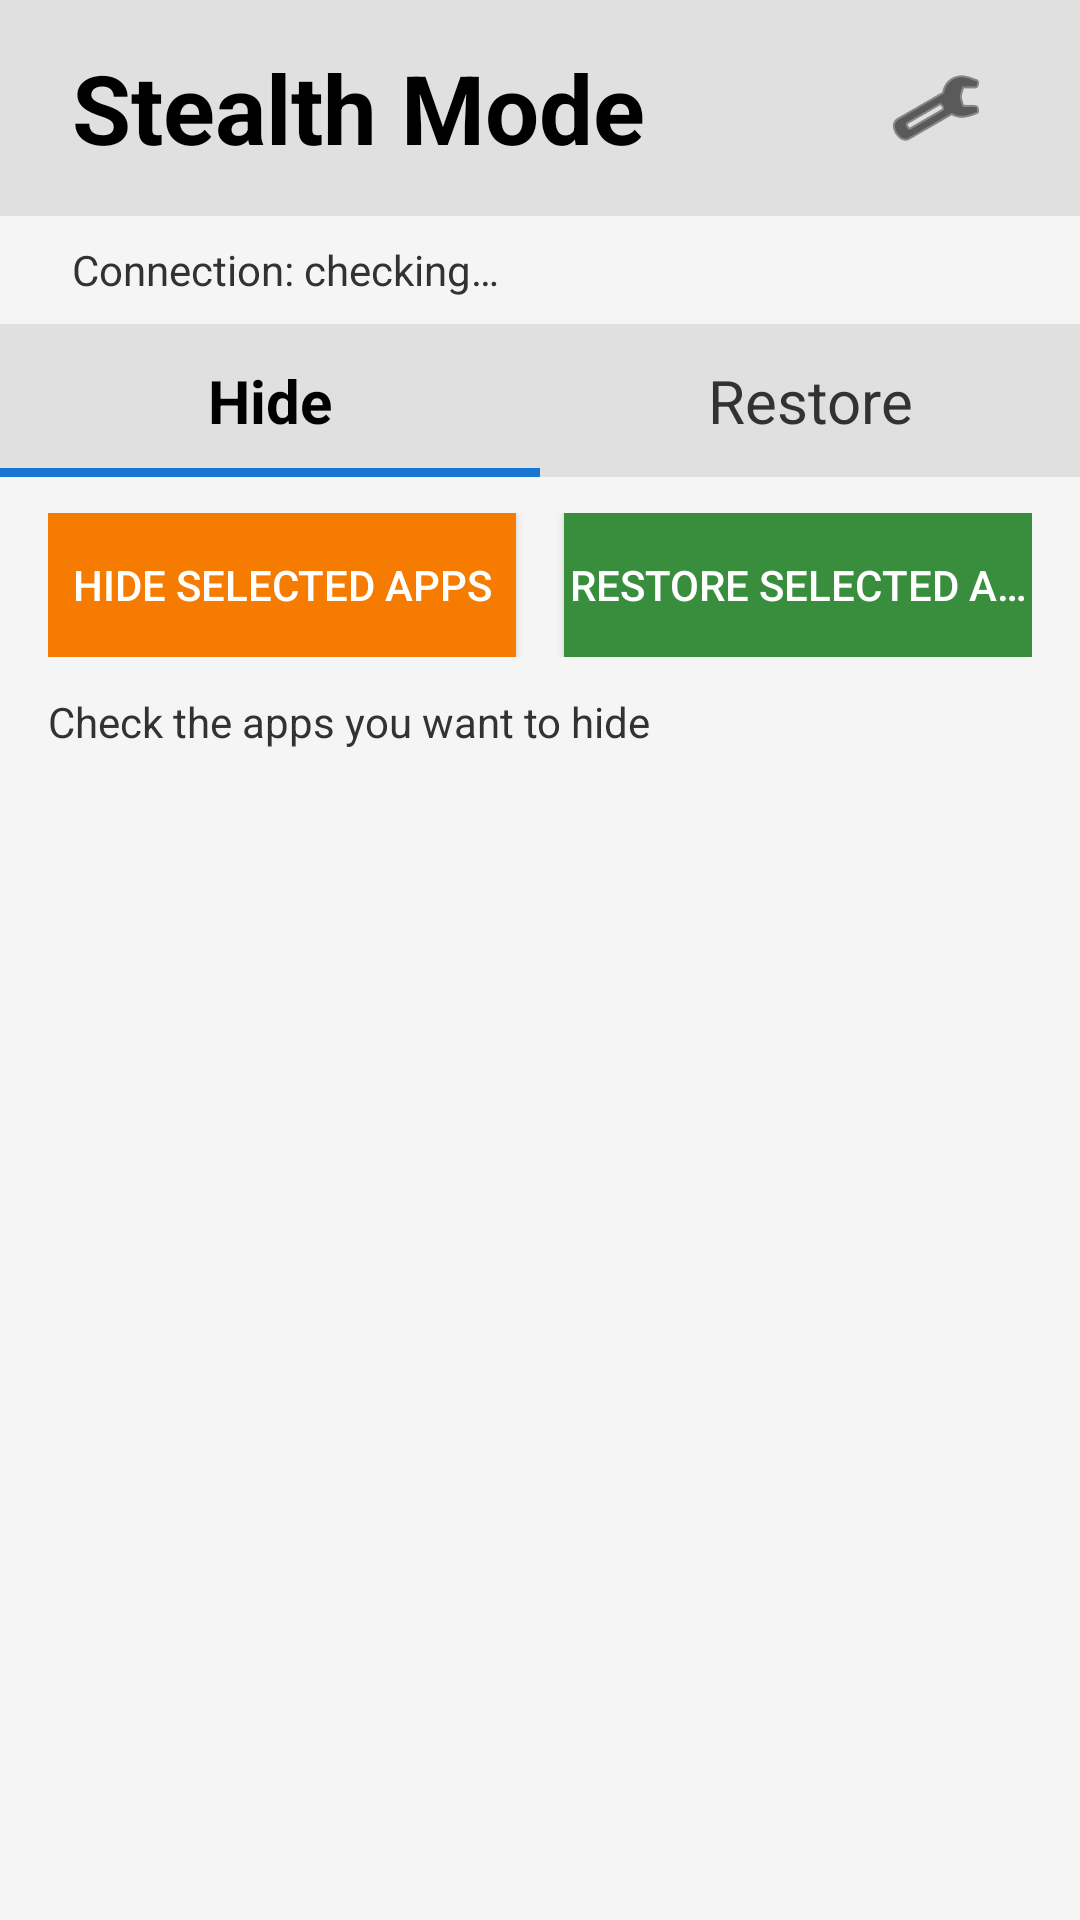

Icon click points for this 1080px x 1920px phone screenshot, format (x=x, y=y):
Settings: (x=936, y=108)
